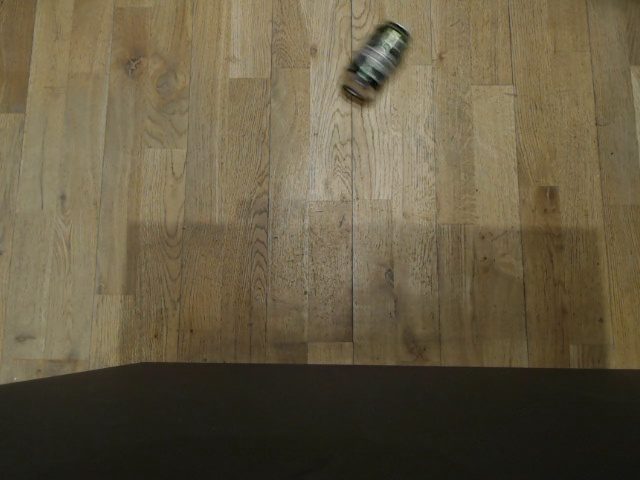beer: (335, 20, 416, 102)
